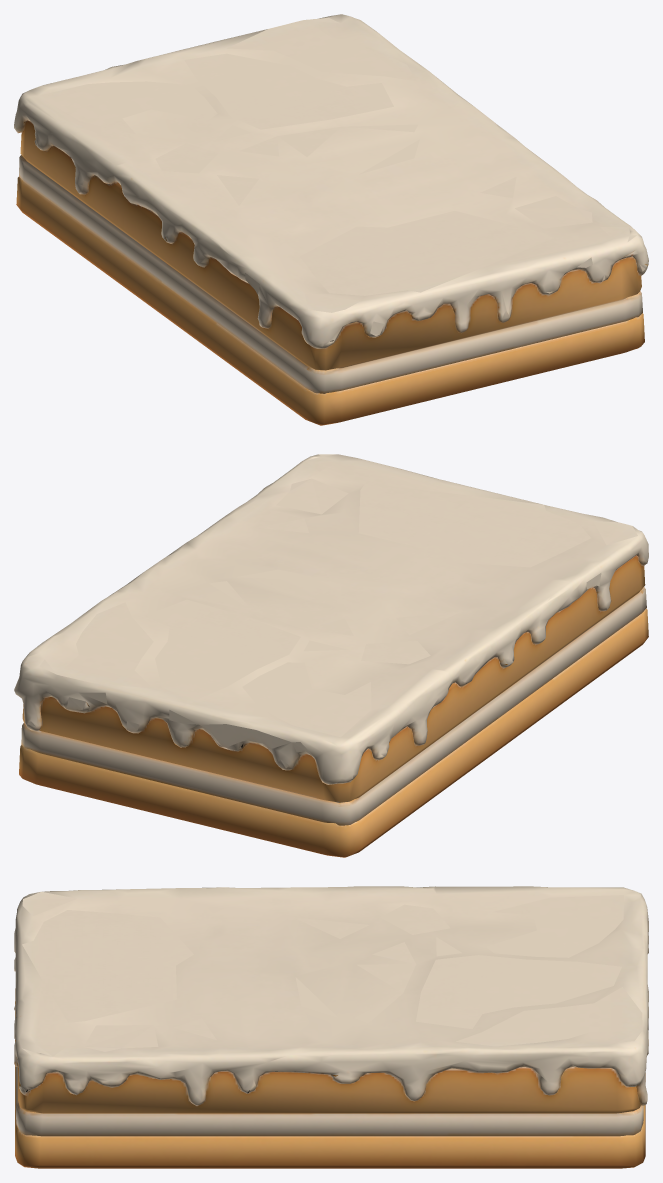
File: PA1Floor.fbx
3 renders of one model, top to bottom at view 1: azimuth 30°, elevation 25°; view 2: azimuth 150°, elevation 25°; view 3: azimuth 270°, elevation 25°, orthographic. The views are drawn at different scales.
Visible parts, largest first — view 1: PA1Floor; view 2: PA1Floor; view 3: PA1Floor.
Boxes of the visible parts, x1,y1,x2,y2 form: PA1Floor: (14, 14, 648, 425); PA1Floor: (14, 454, 648, 857); PA1Floor: (14, 886, 648, 1168).
Size of the model in its own units: 10.02 by 3.37 by 15.55.
Materials: 1 (1 with a texture image).
